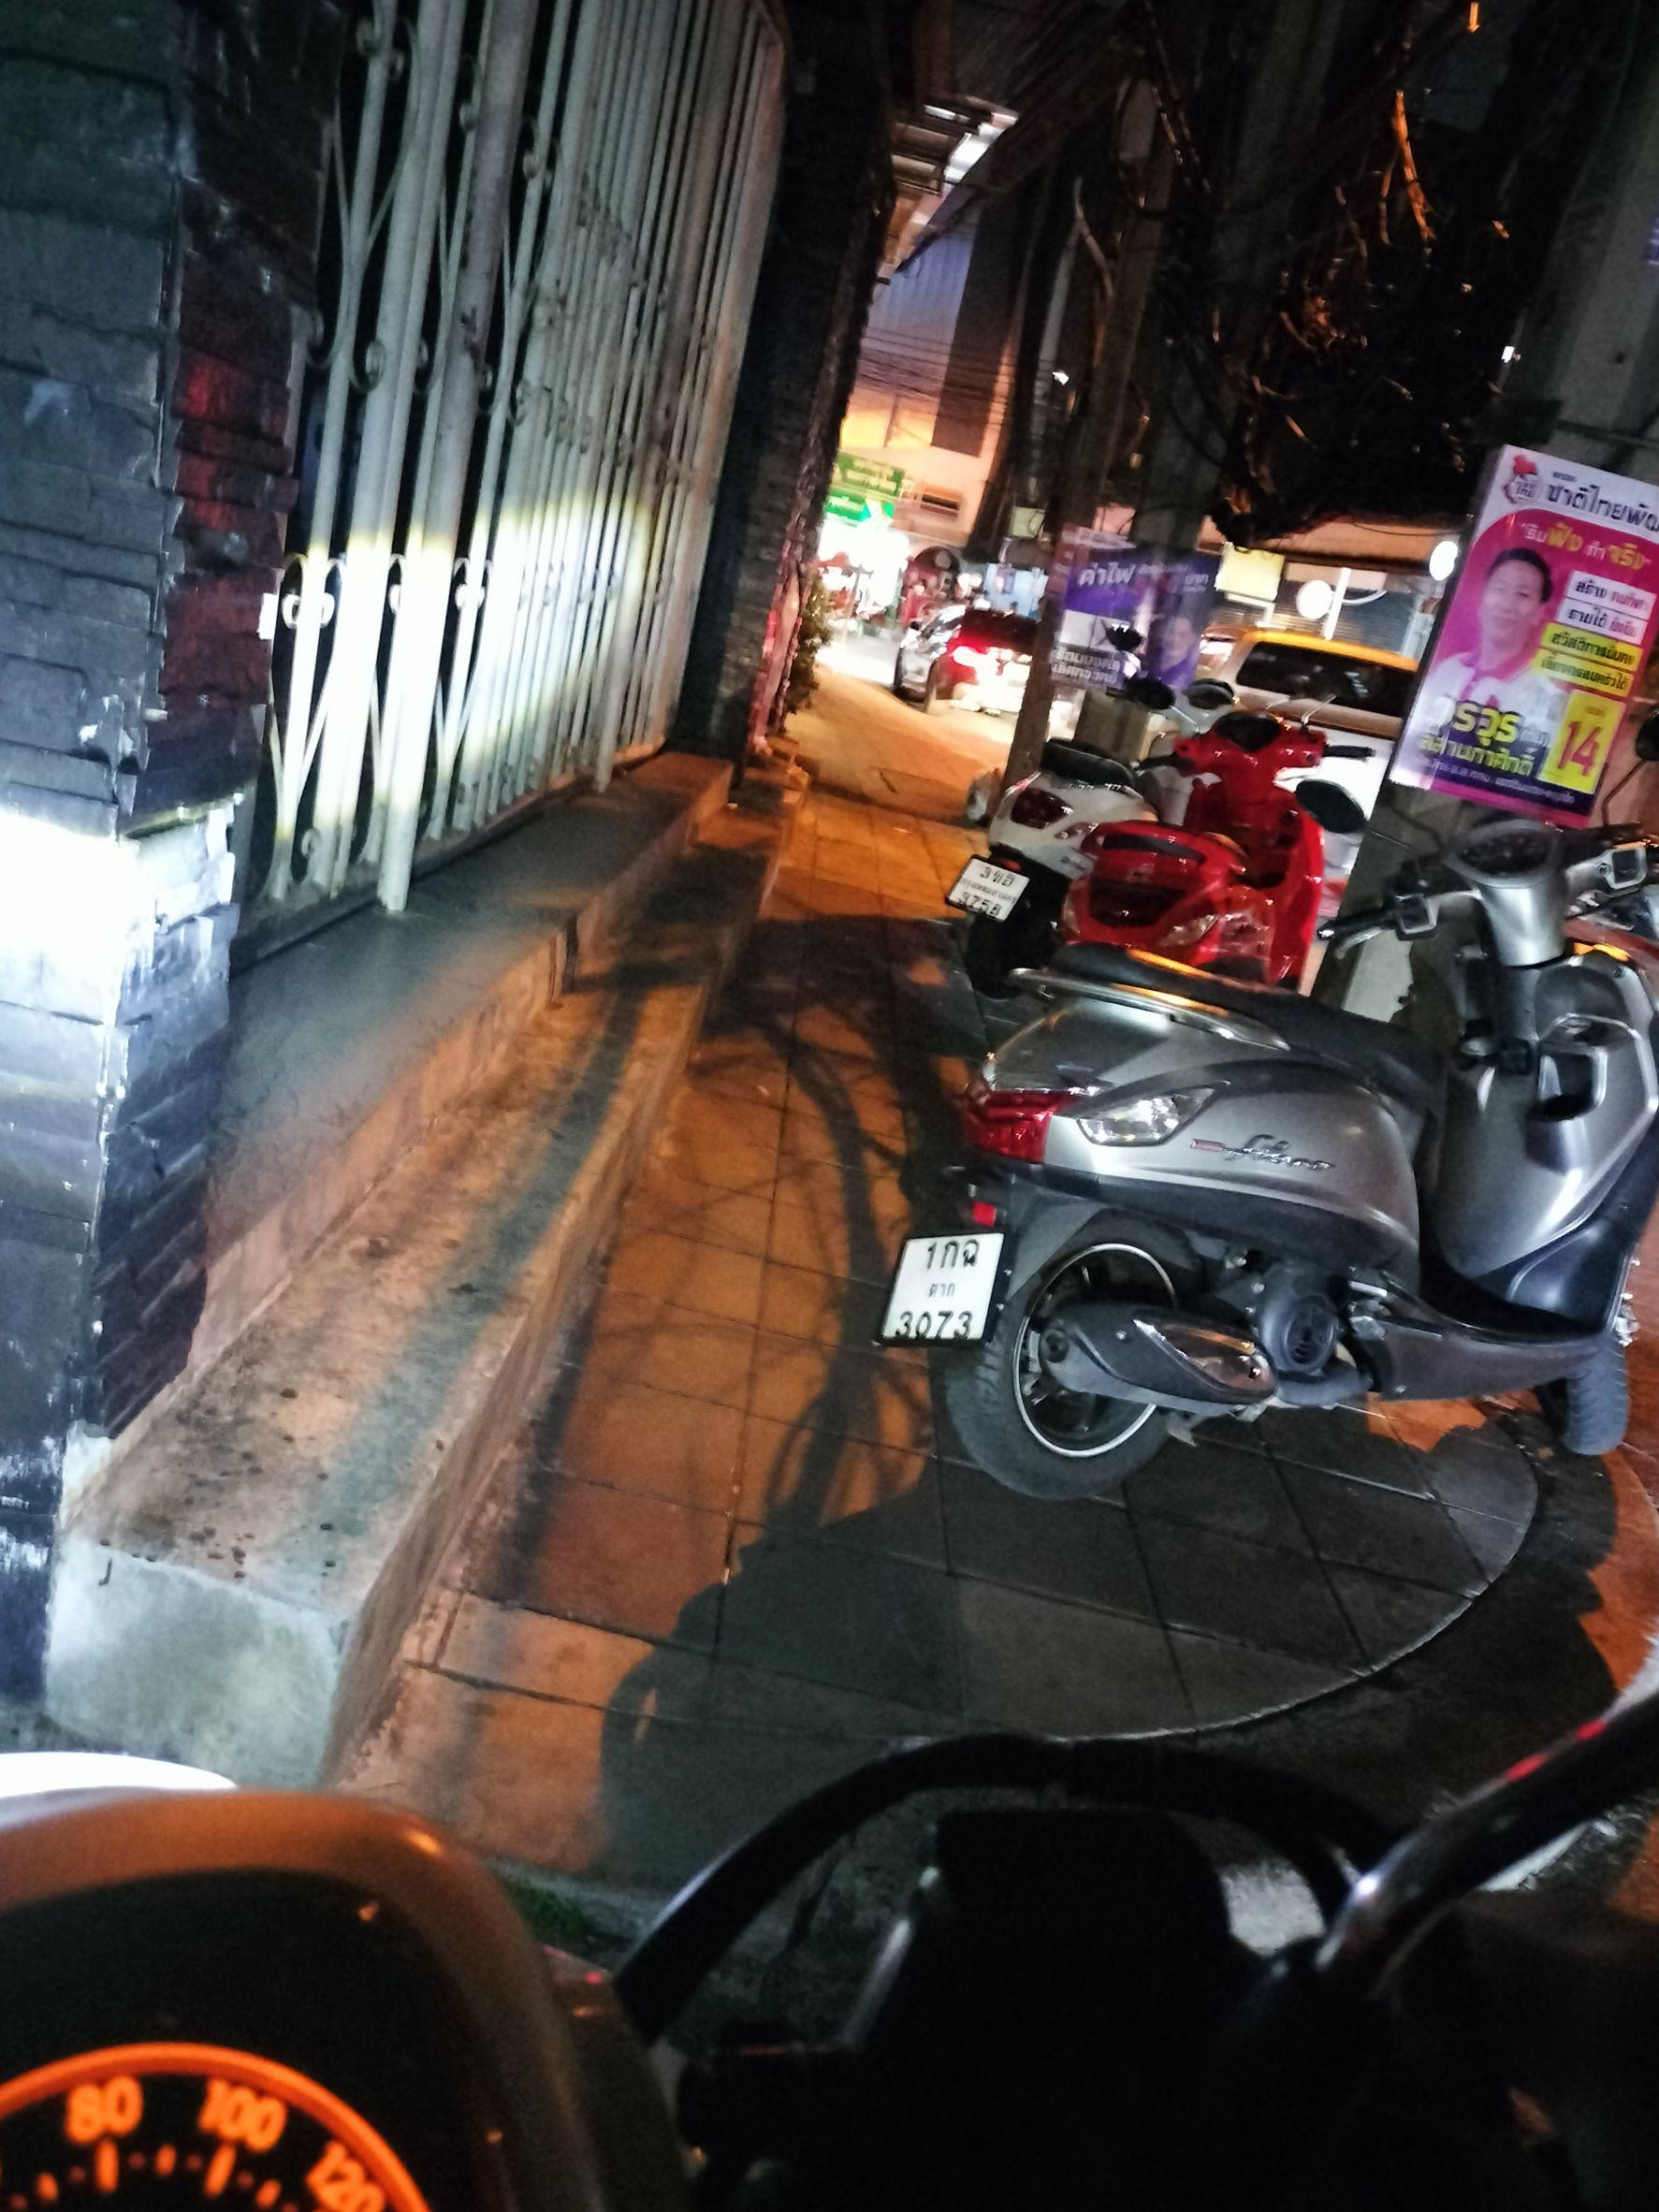Banner: (1446, 446, 1659, 848)
